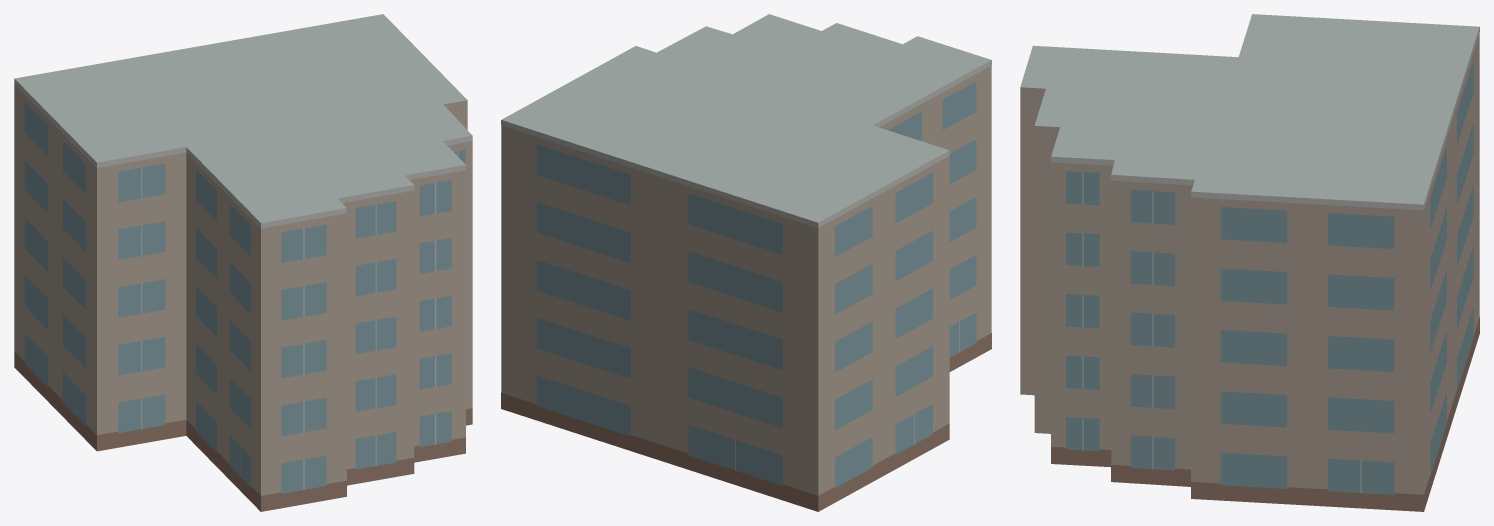
File: survey-upis-32989749.glb
3 renders of one model, left to right at view 1: azimuth 30°, elevation 25°; view 2: azimuth 150°, elevation 25°; view 3: azimuth 270°, elevation 25°, orthographic. The views are drawn at different scales.
Visible parts, largest first — view 1: survey-upis-32989749.tmp; view 2: survey-upis-32989749.tmp; view 3: survey-upis-32989749.tmp.
Part boxes in pixels (box(x1,y1,x2,y2)): survey-upis-32989749.tmp: box(14, 14, 472, 511); survey-upis-32989749.tmp: box(501, 14, 991, 511); survey-upis-32989749.tmp: box(1020, 14, 1479, 511).
Bounding box in the file's own units: 17.31 × 13 × 17.63.
